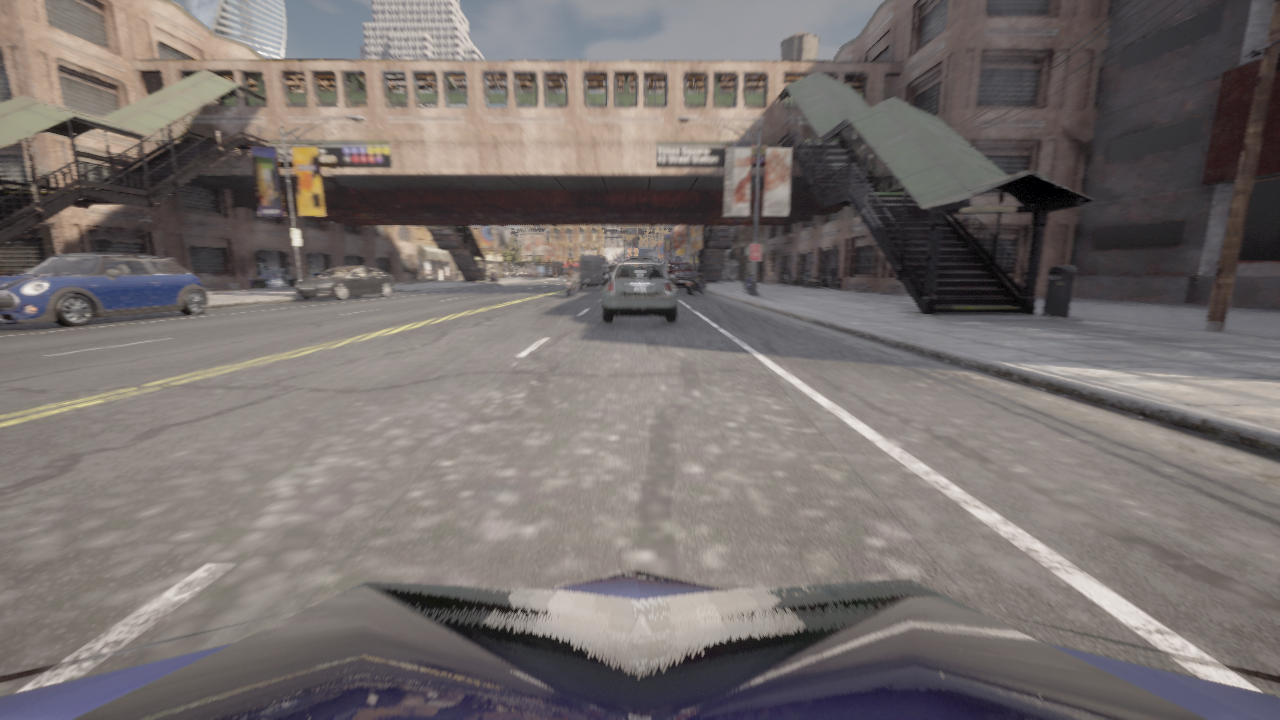cyclist: (0, 569, 1279, 719), (0, 252, 207, 326), (601, 262, 677, 322), (296, 266, 394, 300), (578, 254, 611, 289), (672, 272, 703, 290), (686, 271, 705, 294), (666, 262, 691, 275), (565, 276, 577, 296), (743, 274, 753, 295), (624, 257, 655, 262), (608, 261, 617, 275), (489, 271, 496, 282), (522, 272, 536, 277), (542, 273, 557, 277)
